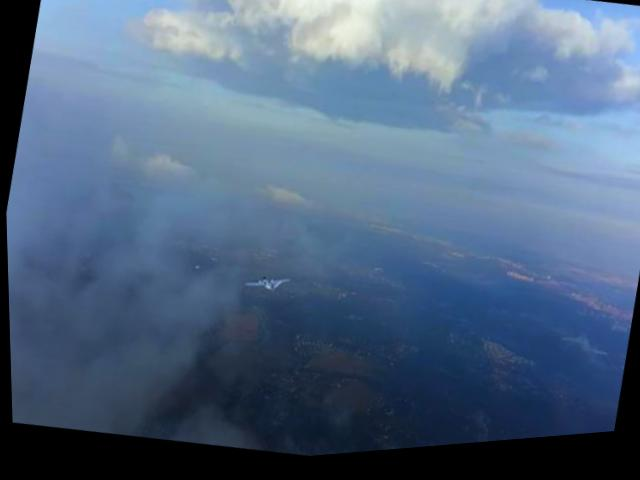iha: (245, 271, 291, 299)
